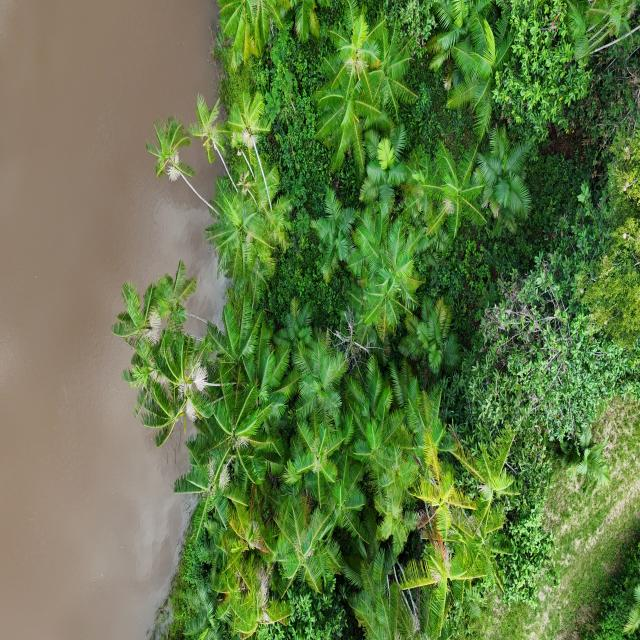vegetation: (111, 1, 638, 638)
